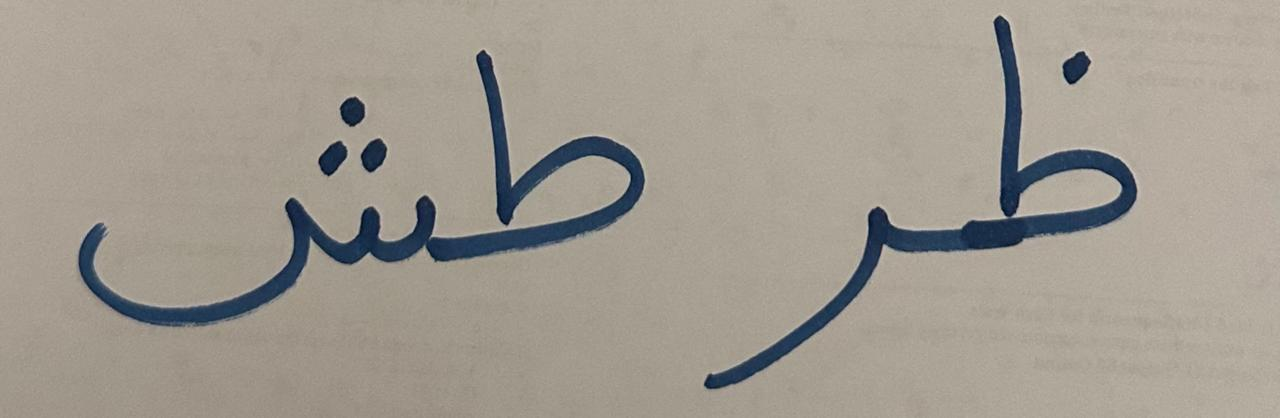sad: (661, 105, 899, 411)
tah: (53, 27, 449, 355)
teh: (453, 26, 657, 293)
zain: (905, 3, 1188, 312)
